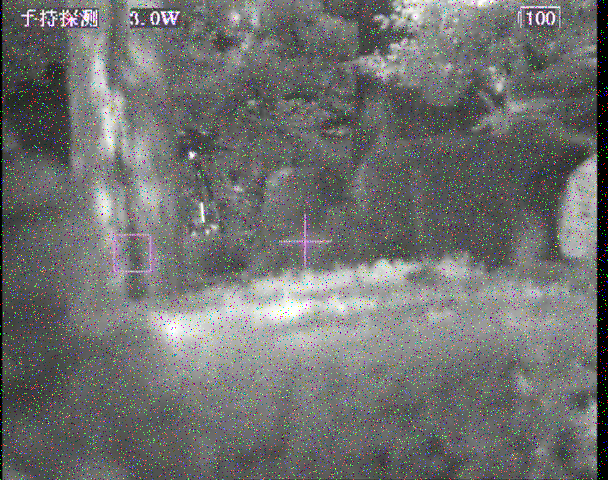my: (186, 151, 196, 161)
